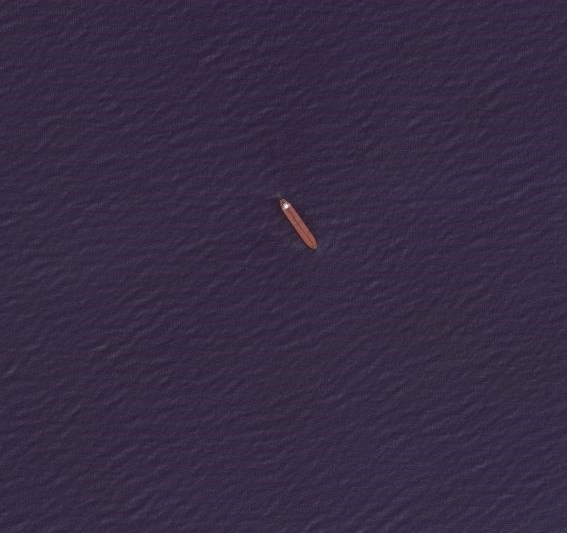ship: (270, 193, 326, 254)
